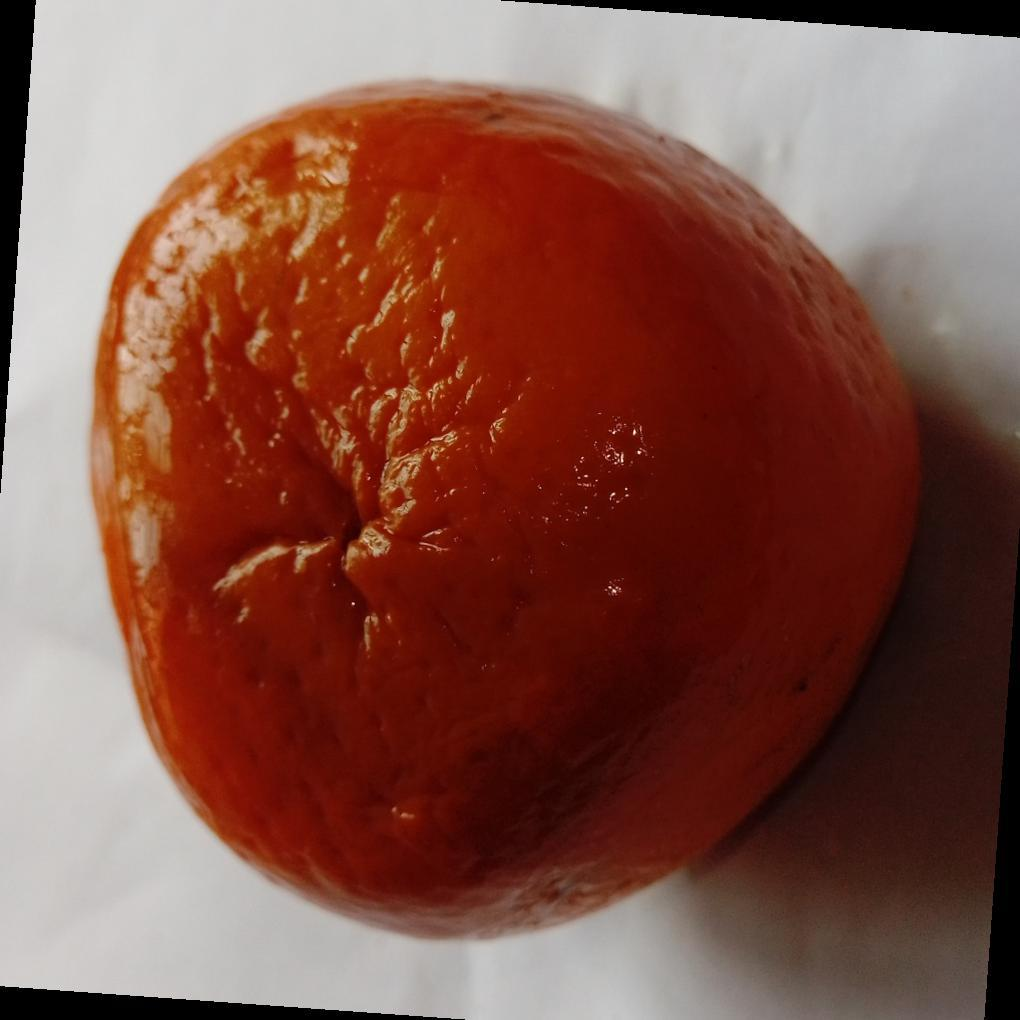FreshOrange: (85, 81, 924, 946)
